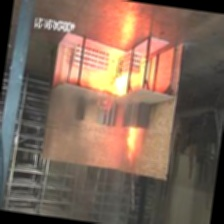fire: (90, 50, 138, 103), (110, 117, 148, 167)
